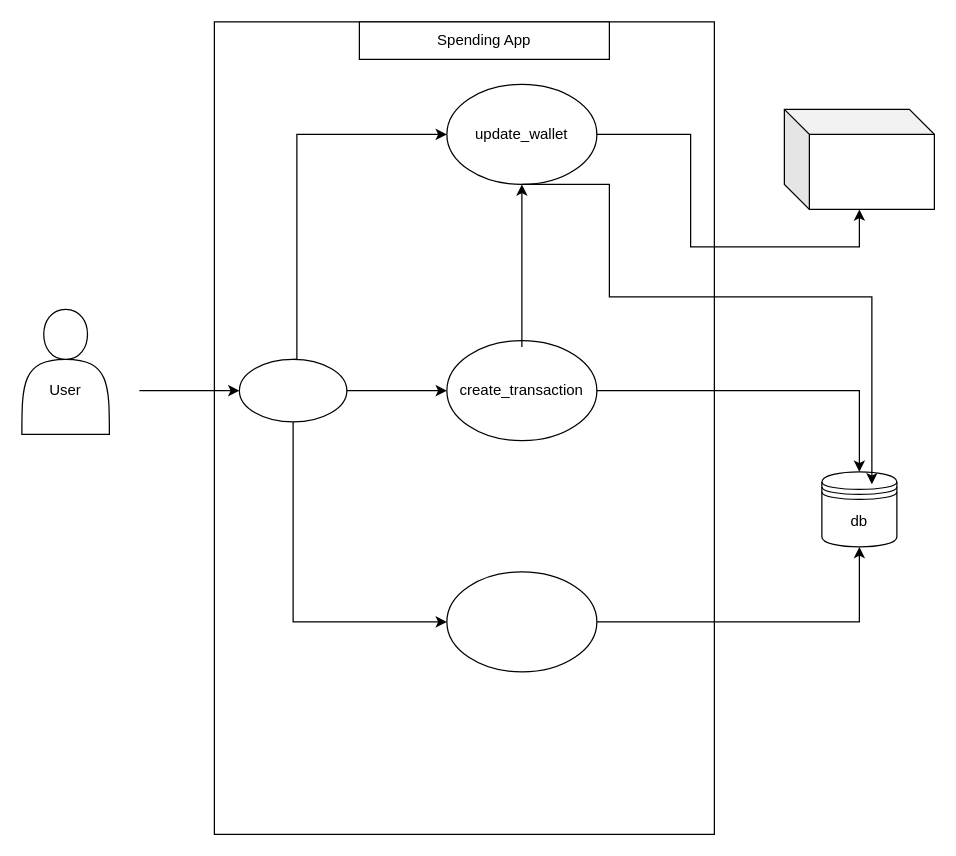
The diagram is 956 pixels wide and 856 high, and some of its shapes have lost their labels. Each missing label, with the centre of its shape:
"Bank" goes at pixel 858 158.
"edit_user_details" goes at pixel 521 621.
"log_in" goes at pixel 292 390.
